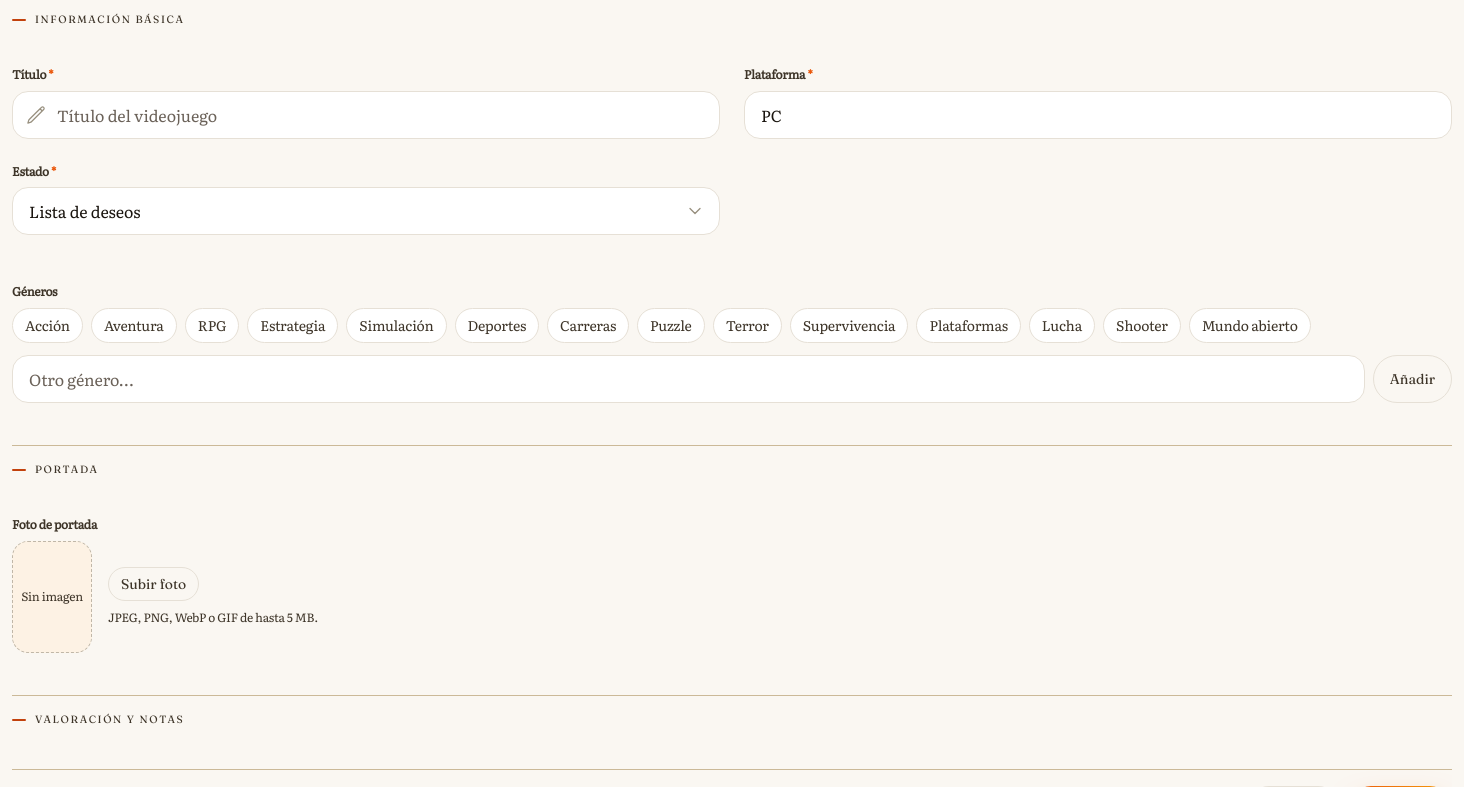
Test: GameForm con catálogo de plataformas › permite elegir una plataforma que no existía en el enum
The image size is (1464, 787).
Click the dropdown named "plataforma" at (1098, 114), box [744,90,1452,138]
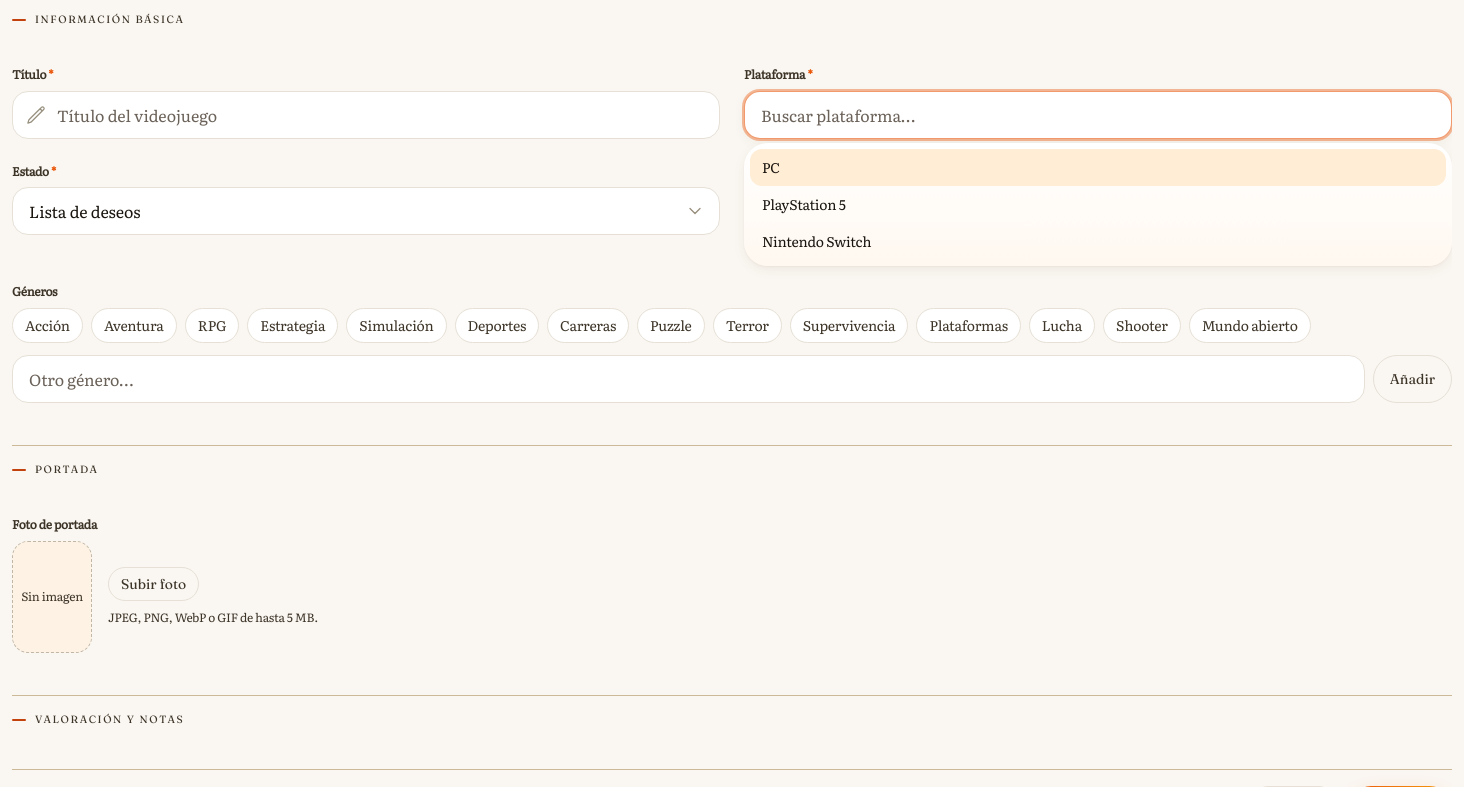
Click the option "PlayStation 5" at (804, 204), box [762,194,846,214]
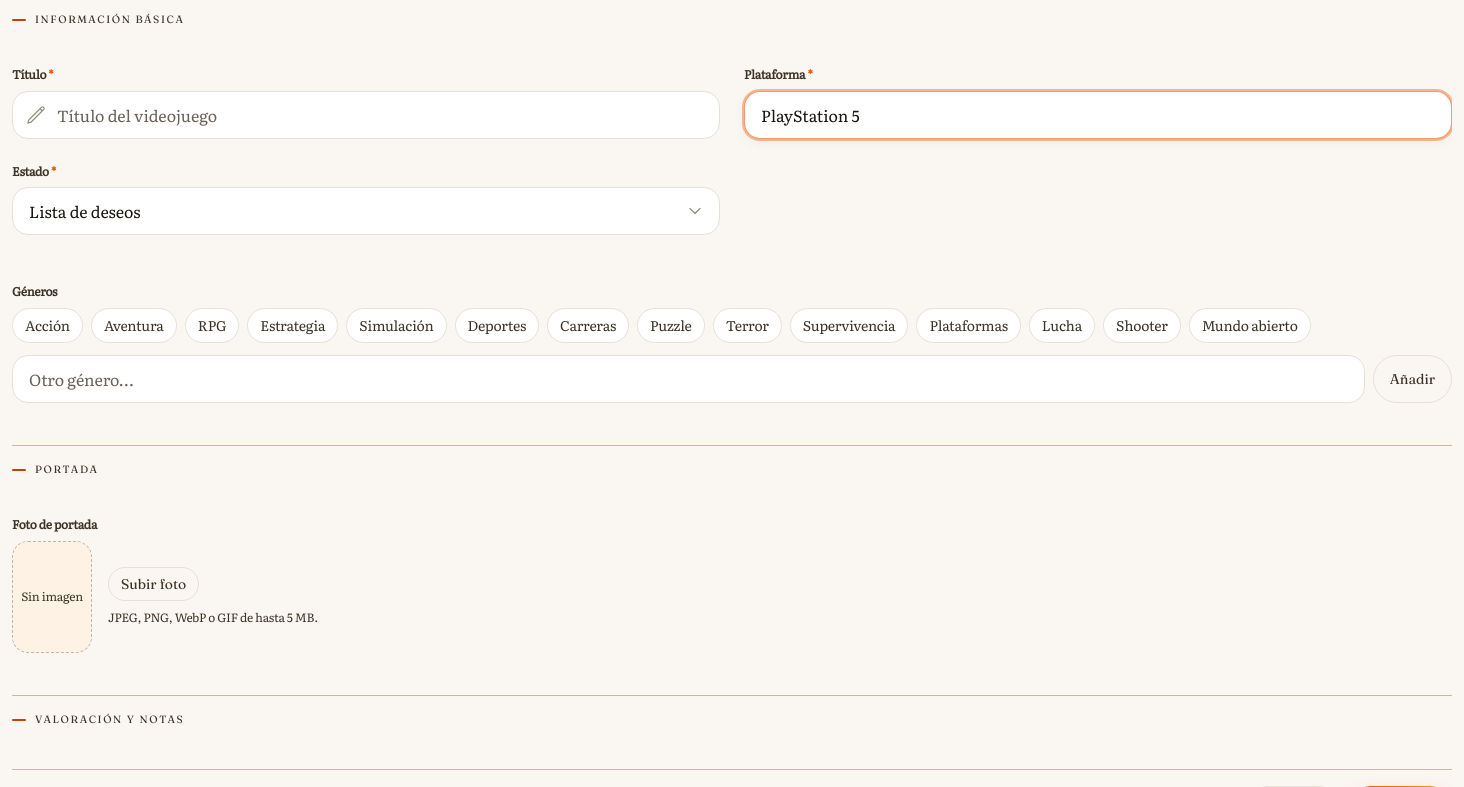
expect the dropdown named "plataforma" holds "PlayStation 5": met, box [744,90,1452,138]
